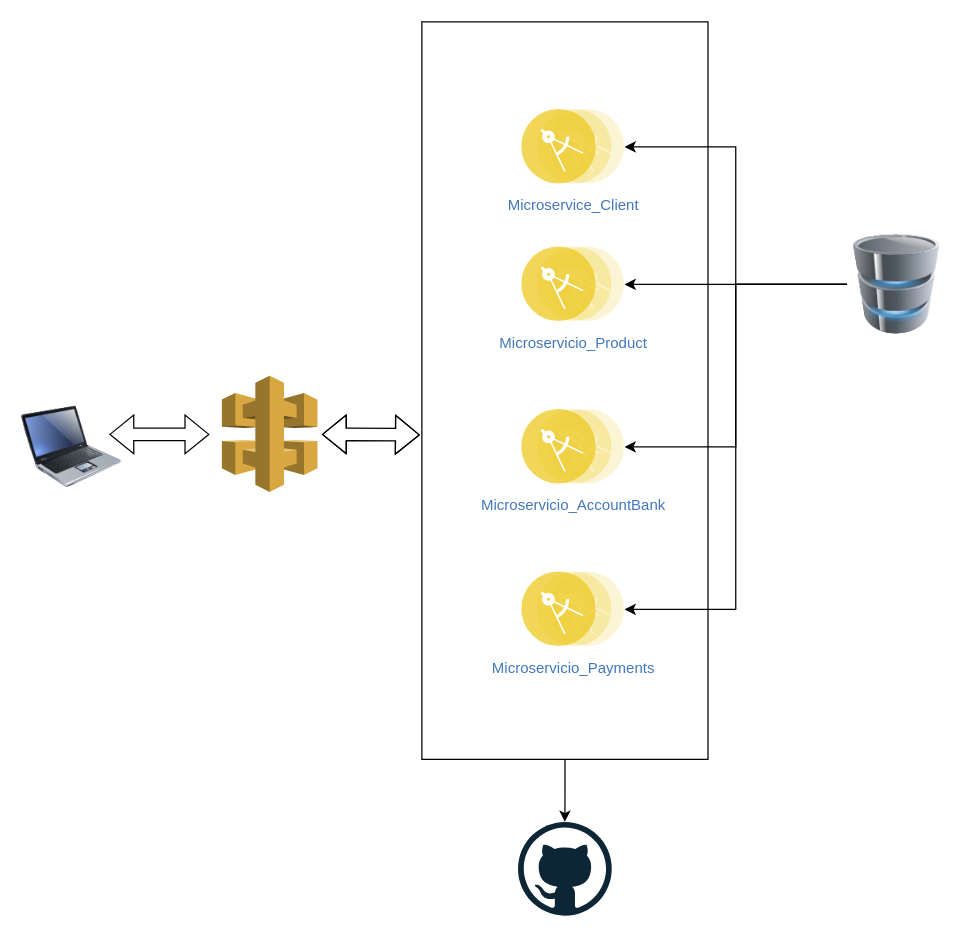
Image size: 968x938. Some labels were removed from this diagram. Here are the shapes that lost their labels. From the top down, the centre of each, then its label:
At (x=896, y=284): "Mongo_Atlas".
At (x=269, y=433): "gateway".
